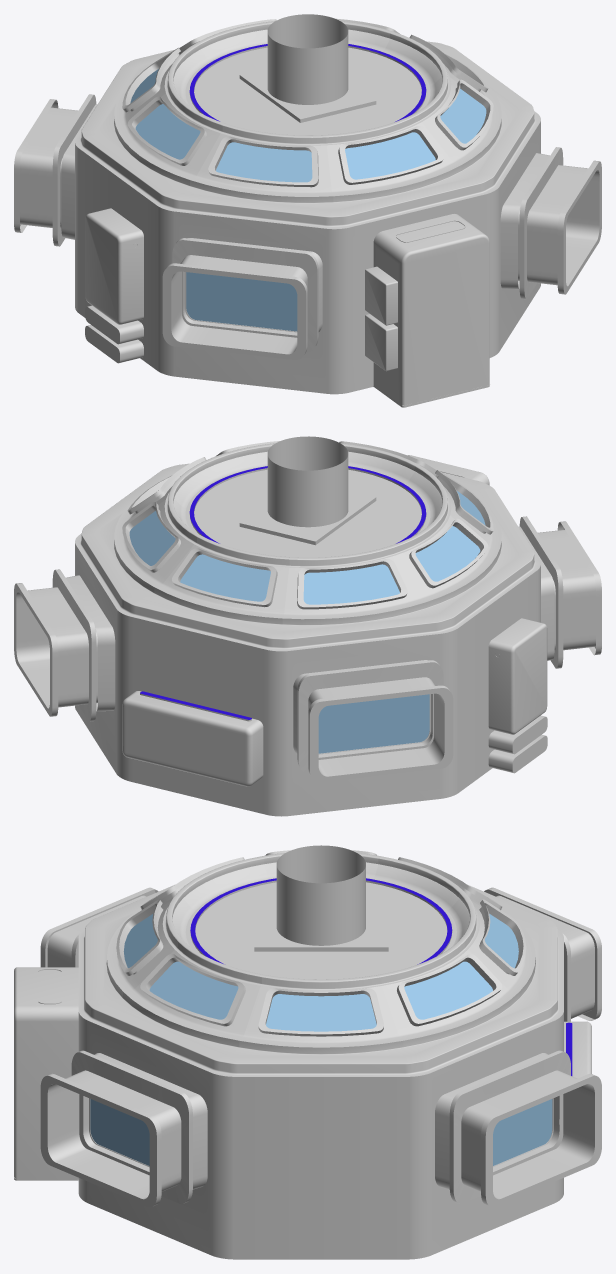
File: FBX_SS_Module4_6x6.fbx
3 views of the same model, one above another, from view 1: azimuth 30°, elevation 25°; view 2: azimuth 150°, elevation 25°; view 3: azimuth 270°, elevation 25° (orthographic). The views are drawn at different scales.
Visible parts, largest first — view 1: Walls_Plain.001, Ceiling_Windowed.003, Walls_Windows, Ceiling_InnerFace; view 2: Walls_Plain.001, Ceiling_Windowed.003, Walls_Windows, Ceiling_InnerFace; view 3: Walls_Plain.001, Ceiling_Windowed.003, Walls_Windows, Ceiling_InnerFace.
Part boxes in pixels (<box>): Walls_Plain.001: <box>75,121,540,407</box>; Ceiling_Windowed.003: <box>75,18,540,229</box>; Walls_Windows: <box>14,94,601,359</box>; Ceiling_InnerFace: <box>185,14,430,135</box>; Walls_Plain.001: <box>75,455,547,816</box>; Ceiling_Windowed.003: <box>75,441,540,651</box>; Walls_Windows: <box>14,516,601,782</box>; Ceiling_InnerFace: <box>185,436,430,557</box>; Walls_Plain.001: <box>14,967,591,1259</box>; Ceiling_Windowed.003: <box>78,850,563,1076</box>; Walls_Windows: <box>40,887,601,1207</box>; Ceiling_InnerFace: <box>185,845,456,979</box>.
Bounding box in the file's own units: 752 × 533 × 788.
